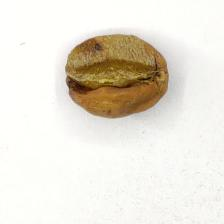NG: (65, 34, 163, 99)
